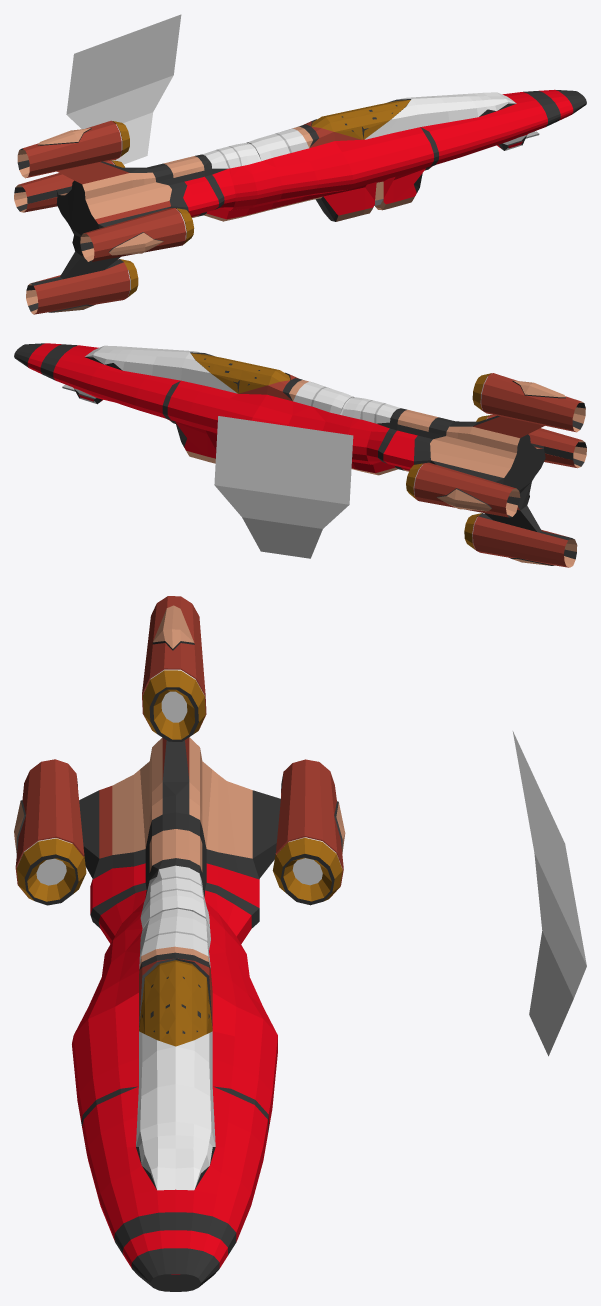
3 views of the same model, one above another, from view 1: azimuth 30°, elevation 25°; view 2: azimuth 150°, elevation 25°; view 3: azimuth 270°, elevation 25° (orthographic). The views are drawn at different scales.
Visible parts, largest first — view 1: SoloShield.001, CSShield; view 2: SoloShield.001, CSShield; view 3: SoloShield.001, CSShield.
Boxes of the visible parts, x1,y1,x2,y2 form: SoloShield.001: (14, 89, 586, 314); CSShield: (66, 14, 181, 164); SoloShield.001: (14, 343, 586, 567); CSShield: (214, 416, 353, 558); SoloShield.001: (14, 596, 345, 1291); CSShield: (512, 731, 586, 1056).
Bounding box in the file's own units: 471 × 144 × 218.
